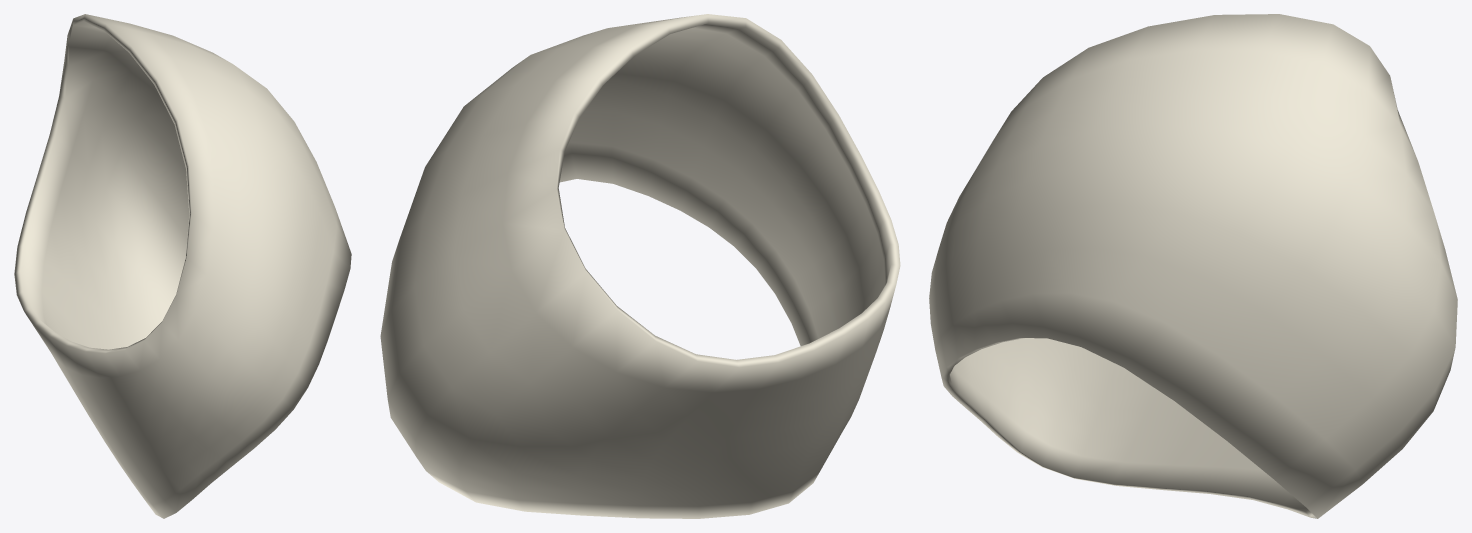
The picture shows the model from 3 angles, left to right: view 1: azimuth 30°, elevation 25°; view 2: azimuth 150°, elevation 25°; view 3: azimuth 270°, elevation 25°; orthographic projection. The views are drawn at different scales.
Parts seen in each view (by area): view 1: ZA_6cc59e5ae7911863; view 2: ZA_6cc59e5ae7911863; view 3: ZA_6cc59e5ae7911863.
Part boxes in pixels (left/top/right/bottom): ZA_6cc59e5ae7911863: left=14, top=14, right=351, bottom=518; ZA_6cc59e5ae7911863: left=380, top=14, right=900, bottom=518; ZA_6cc59e5ae7911863: left=929, top=14, right=1457, bottom=518.
Size of the model in its own units: 0.0236 by 0.0312 by 0.0308.
